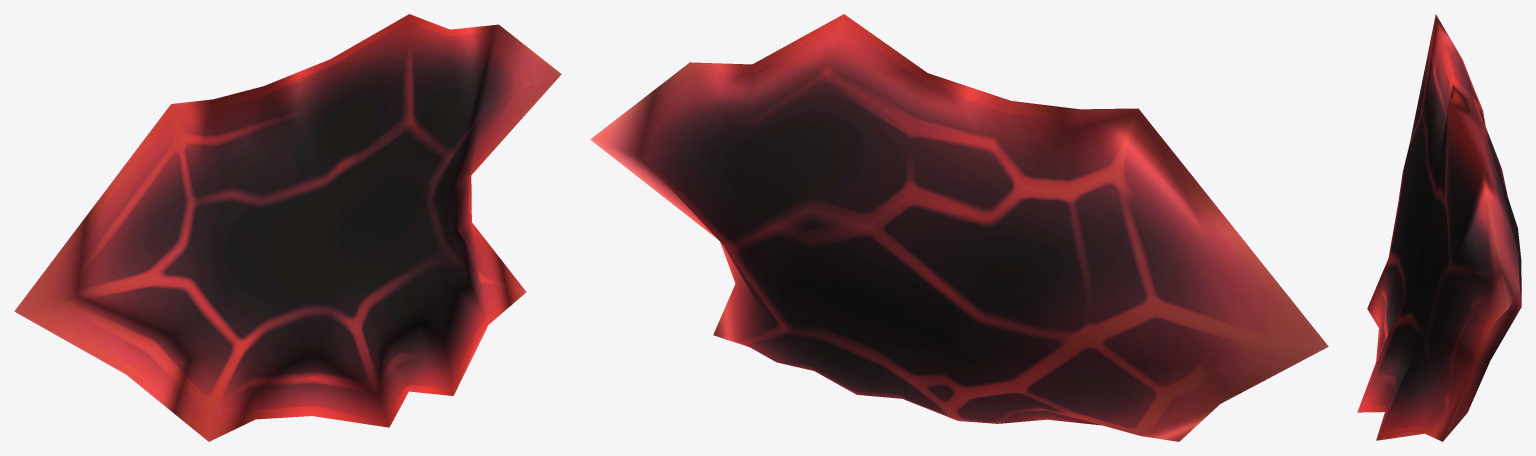
File: item_weashimgm2501-et02.glb
3 views of the same model, side by side, from view 1: azimuth 30°, elevation 25°; view 2: azimuth 150°, elevation 25°; view 3: azimuth 270°, elevation 25° (orthographic). The views are drawn at different scales.
Parts seen in each view (by area): view 1: FlyffMesh; view 2: FlyffMesh; view 3: FlyffMesh.
Part boxes in pixels (x1,y1,x2,y2): FlyffMesh: (14,14,561,441); FlyffMesh: (590,14,1328,441); FlyffMesh: (1357,14,1521,441).
Size of the model in its own units: 0.9364 by 0.5498 by 0.24.
Materials: 1 (1 with a texture image).
